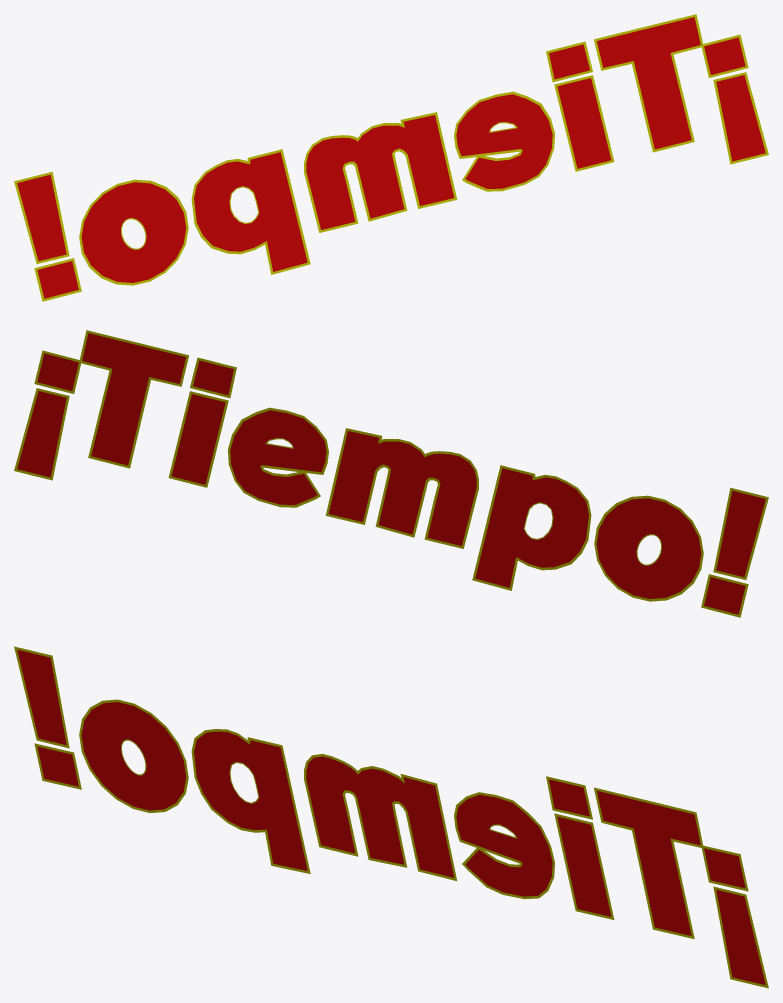
The model's file is TIEMPO.fbx.
The picture shows the model from 3 angles, top to bottom: view 1: azimuth 30°, elevation 25°; view 2: azimuth 150°, elevation 25°; view 3: azimuth 330°, elevation 25°; orthographic projection.
Parts seen in each view (by area): view 1: polySurface12; view 2: polySurface12; view 3: polySurface12.
Boxes of the visible parts, x1=… form: polySurface12: x1=14, y1=14, x2=768, y2=301; polySurface12: x1=14, y1=330, x2=768, y2=617; polySurface12: x1=14, y1=646, x2=768, y2=988.
Bounding box in the file's own units: 41.26 × 8.29 × 0.
